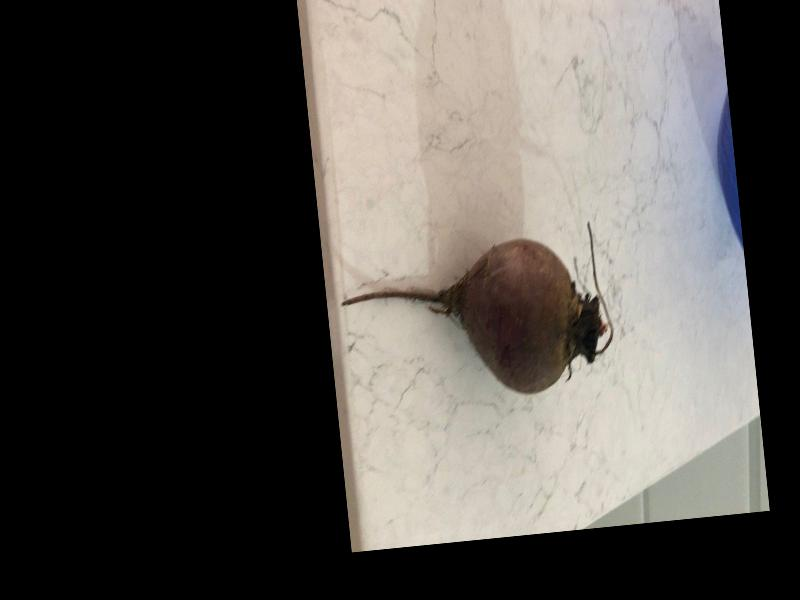Beet: (336, 219, 619, 410)
